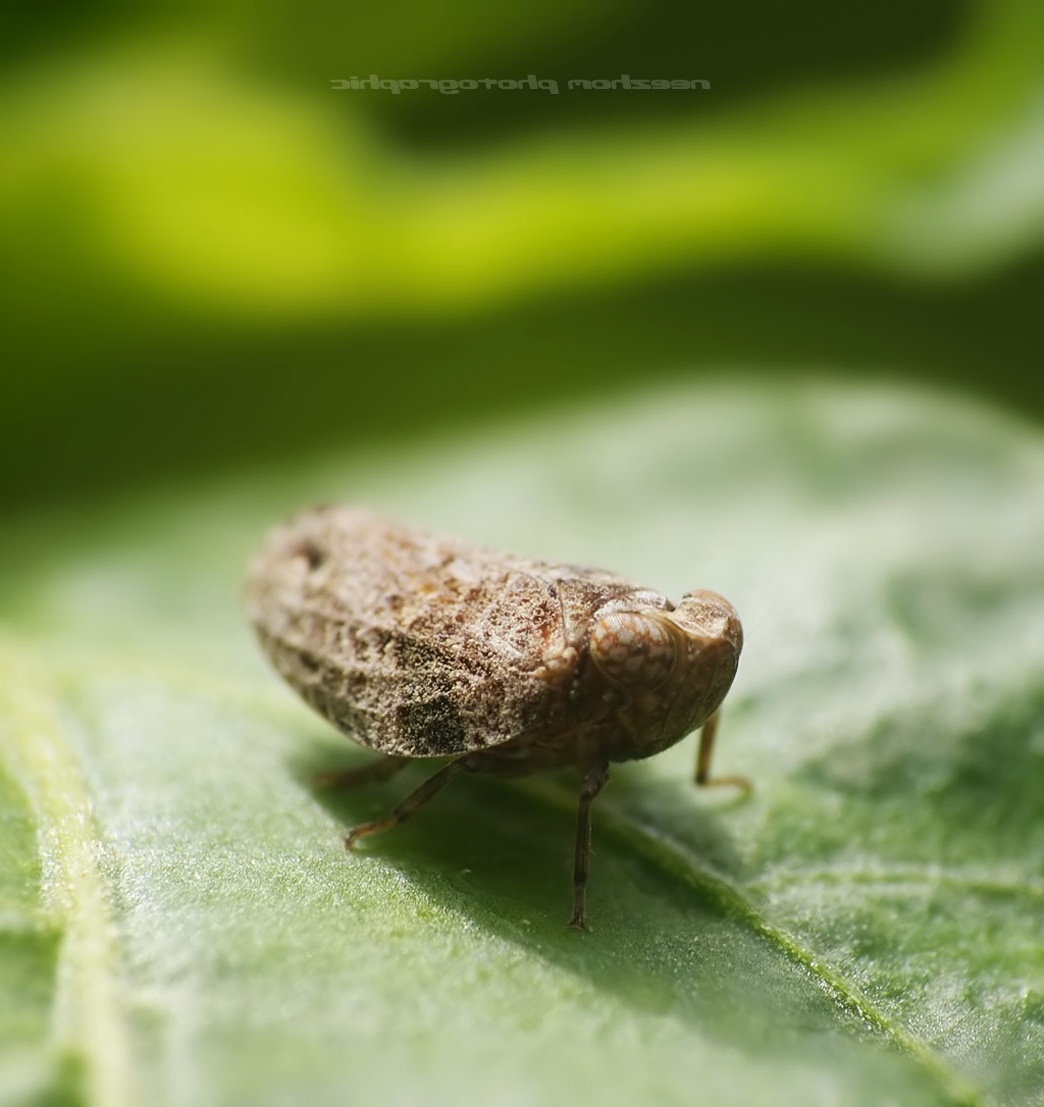Brown_hopper: (231, 491, 759, 827)
